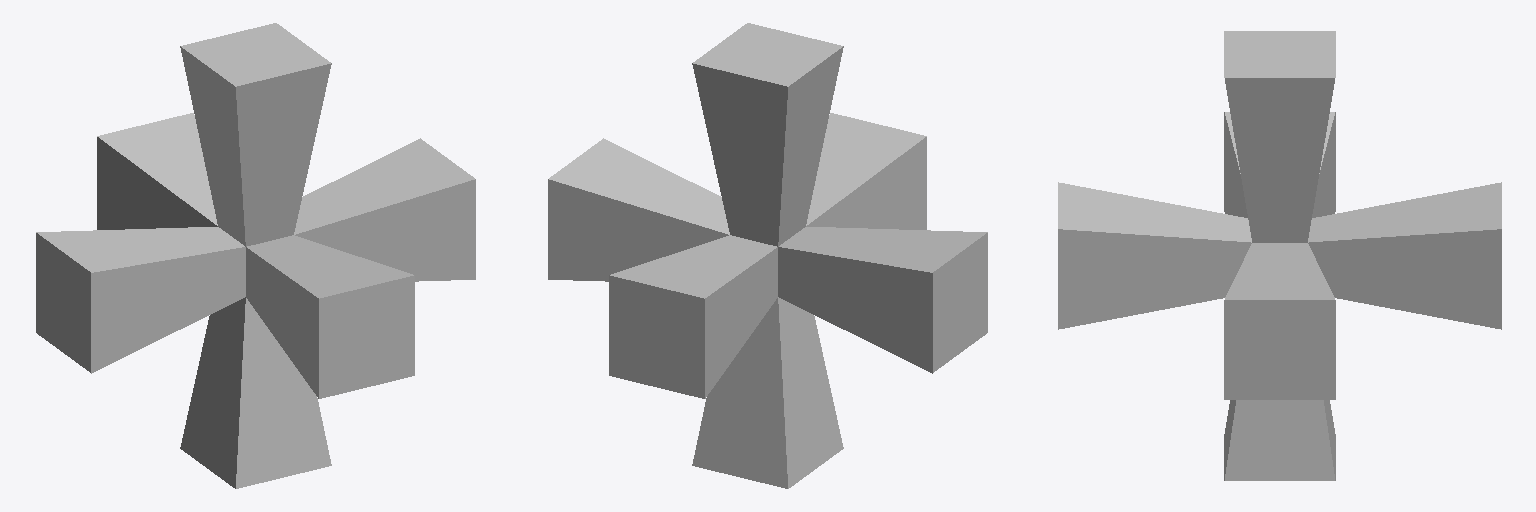
File: extrude_gizmo.obj
3 views of the same model, side by side, from view 1: azimuth 30°, elevation 25°; view 2: azimuth 150°, elevation 25°; view 3: azimuth 270°, elevation 25° (orthographic).
Visible parts, largest first — view 1: Cube; view 2: Cube; view 3: Cube.
Part boxes in pixels (x1,y1,x2,y2): Cube: (36, 23, 475, 488); Cube: (548, 23, 987, 488); Cube: (1058, 31, 1501, 480).
Size of the model in its own units: 2 by 2 by 2.